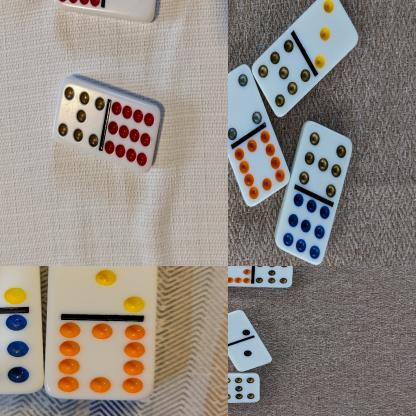pip-1: (228, 339, 272, 370), (105, 0, 160, 17)
pip-10: (45, 319, 157, 399), (235, 129, 291, 207), (228, 266, 254, 286)
pip-12: (104, 100, 162, 172)
pip-2: (228, 308, 251, 343)
pip-3: (47, 266, 159, 318), (304, 0, 359, 68)
pip-4: (228, 64, 262, 140)
pip-7: (252, 38, 311, 116), (299, 121, 353, 198), (53, 82, 105, 148), (228, 371, 260, 402), (253, 266, 294, 287)
pip-9: (275, 193, 331, 266), (0, 312, 43, 393)
